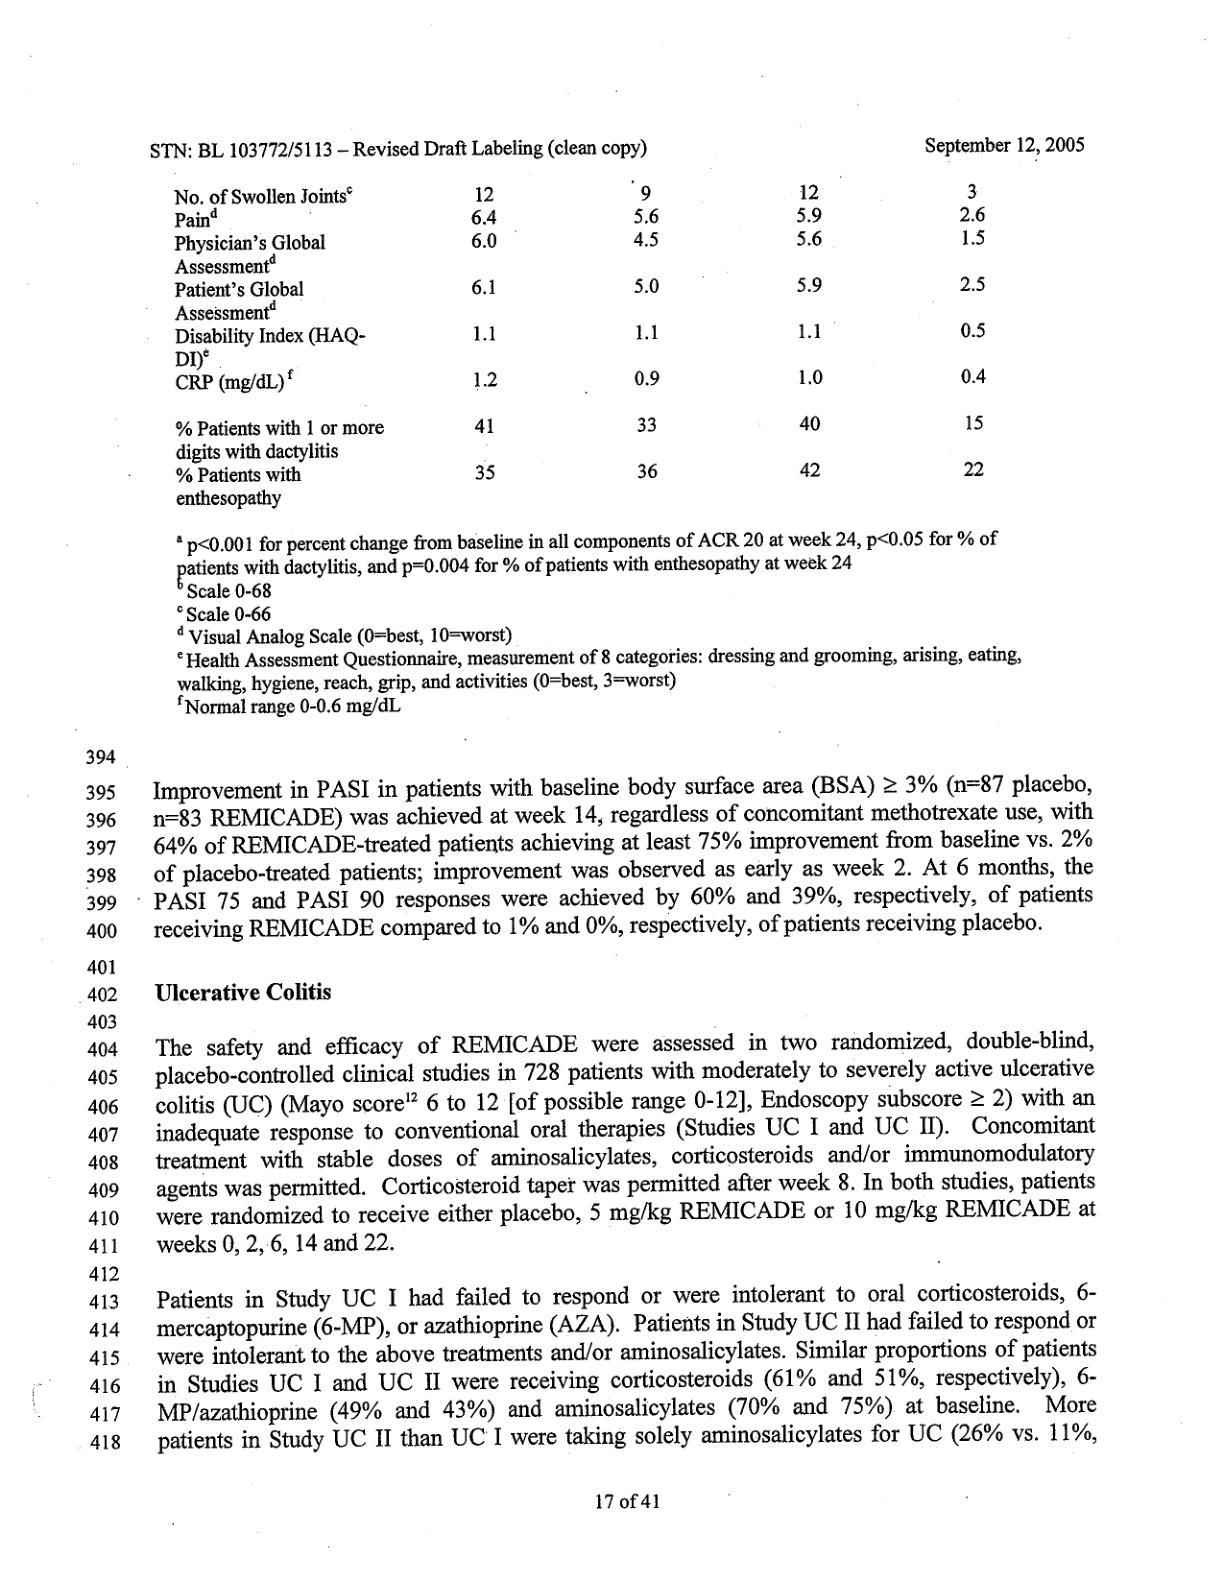nolines: (170, 177, 993, 512)
